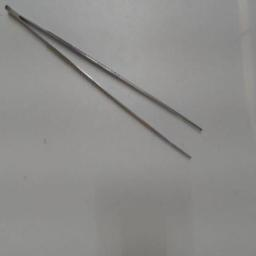DeBakey Dissector: (1, 2, 225, 176)
